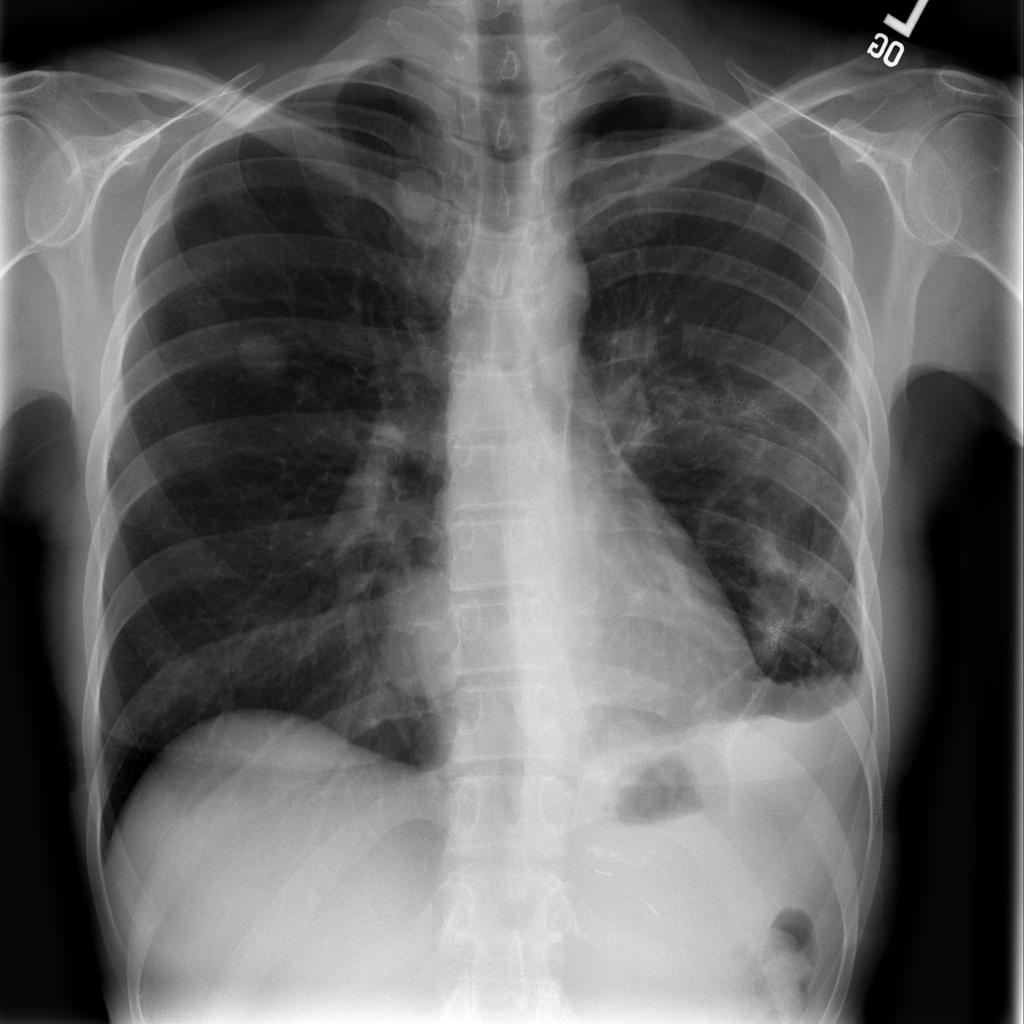nodule: (221, 316, 302, 392), (381, 158, 455, 234)
